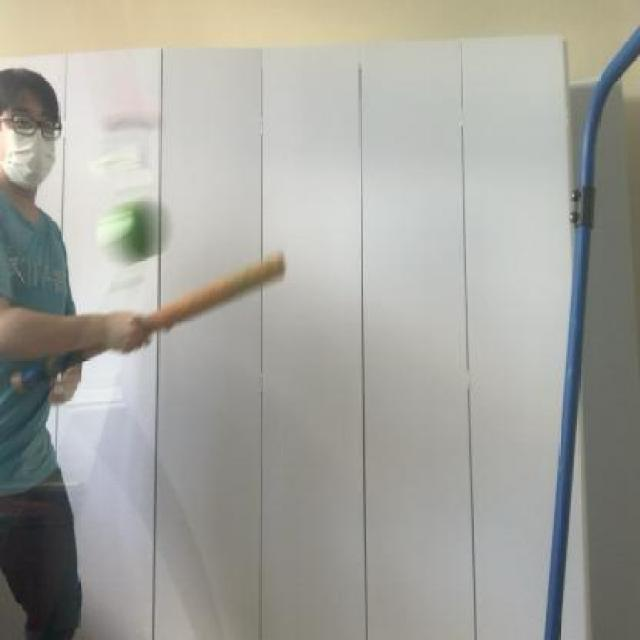baseball: (94, 184, 174, 262)
